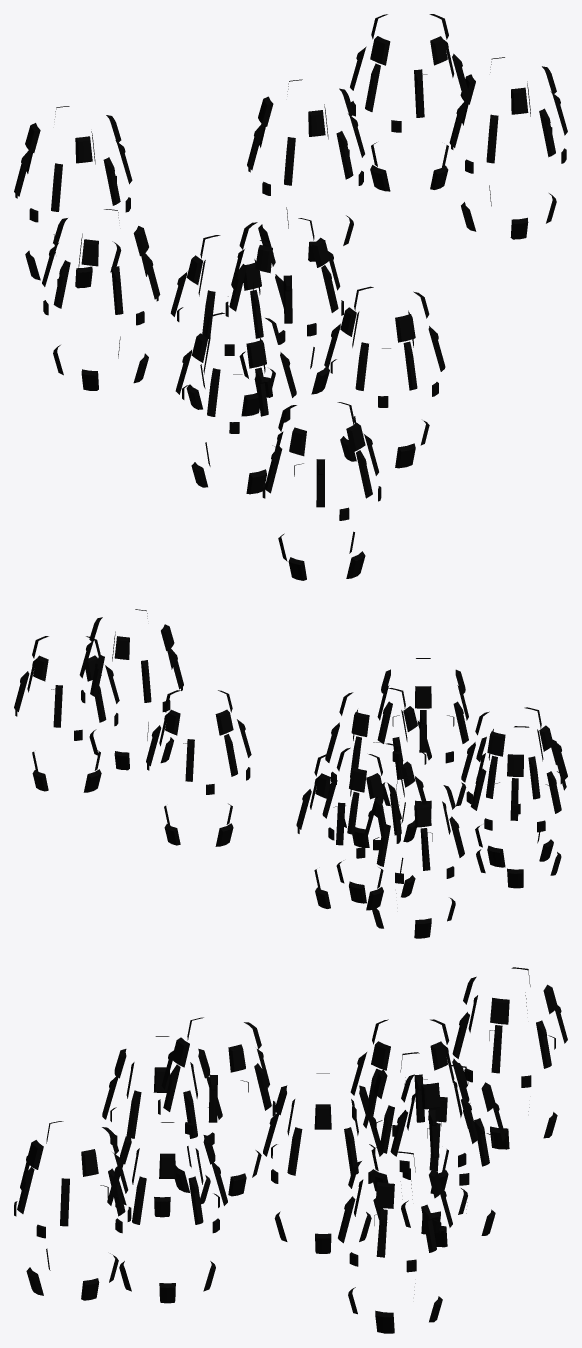
The model's file is prop_static_yao_container_01_04.glb.
3 views of the same model, one above another, from view 1: azimuth 30°, elevation 25°; view 2: azimuth 150°, elevation 25°; view 3: azimuth 270°, elevation 25° (orthographic). The views are drawn at different scales.
Visible parts, largest first — view 1: yao_container_01_04_LOD0; view 2: yao_container_01_04_LOD0; view 3: yao_container_01_04_LOD0.
Boxes of the visible parts, x1=… form: yao_container_01_04_LOD0: x1=14, y1=14, x2=567, y2=580; yao_container_01_04_LOD0: x1=14, y1=609, x2=567, y2=938; yao_container_01_04_LOD0: x1=14, y1=967, x2=567, y2=1333.
Size of what is drawn, in the model's own units: 10 by 6.6 by 9.6.
Materials: 1 (1 with a texture image).
